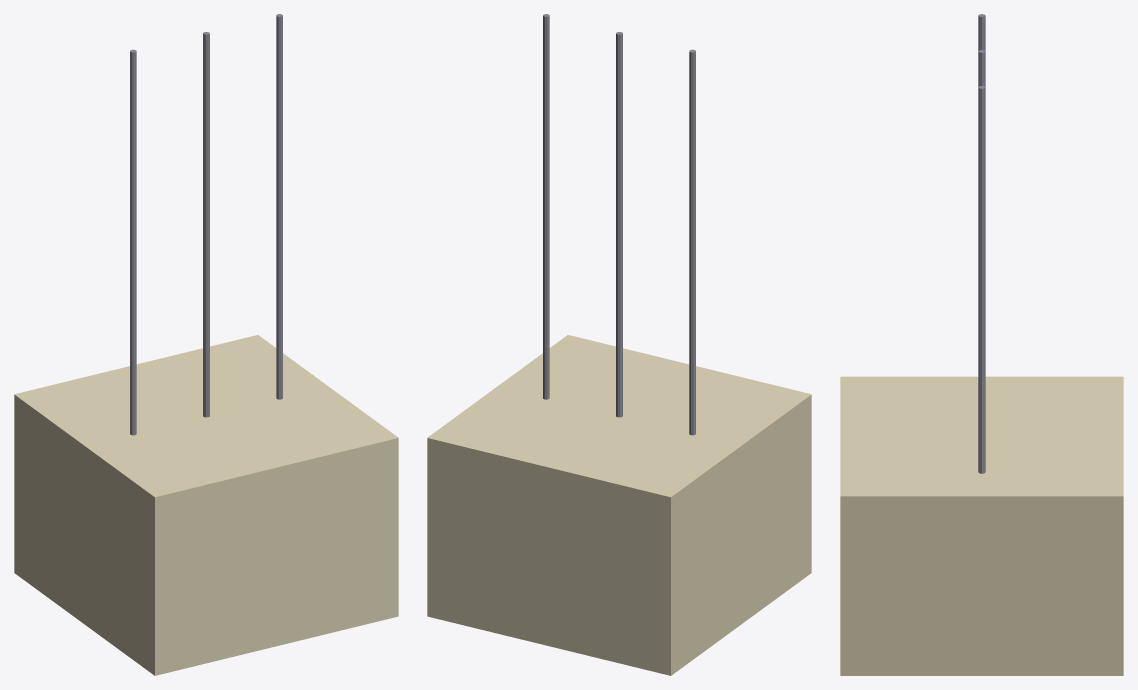
File: commo_bunker.glb
The picture shows the model from 3 angles, left to right: view 1: azimuth 30°, elevation 25°; view 2: azimuth 150°, elevation 25°; view 3: azimuth 270°, elevation 25°; orthographic projection.
Parts seen in each view (by area): view 1: CommoBlunker_Body, CommoBlunker_Masts; view 2: CommoBlunker_Body, CommoBlunker_Masts; view 3: CommoBlunker_Body, CommoBlunker_Masts.
Part boxes in pixels (left/top/right/bottom): CommoBlunker_Body: left=14, top=335, right=398, bottom=675; CommoBlunker_Masts: left=130, top=14, right=282, bottom=435; CommoBlunker_Body: left=427, top=335, right=811, bottom=675; CommoBlunker_Masts: left=543, top=14, right=695, bottom=435; CommoBlunker_Body: left=840, top=376, right=1123, bottom=675; CommoBlunker_Masts: left=978, top=14, right=985, bottom=473.
Bounding box in the file's own units: 4 × 8.8 × 4.
